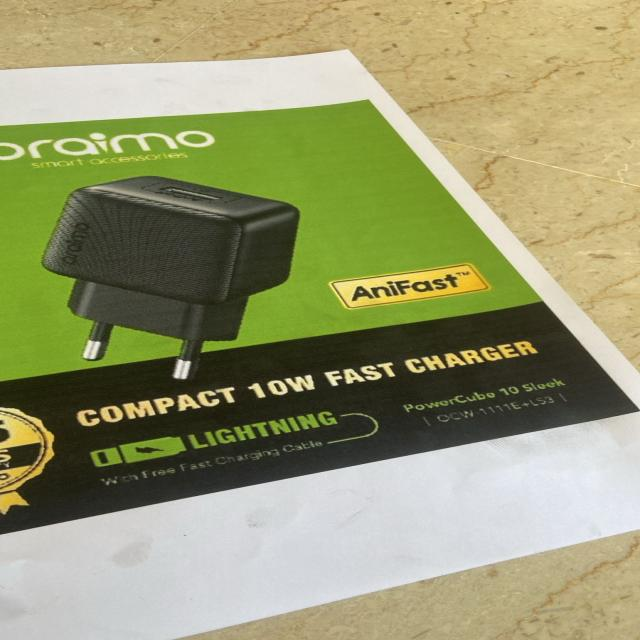PowerCube 10 Sleek OCW-1111ExL53: (397, 375, 576, 430)
